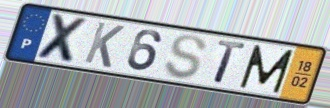6: (126, 29, 163, 73)
K: (81, 20, 127, 70)
M: (237, 43, 296, 95)
S: (162, 33, 209, 81)
T: (212, 38, 248, 87)
X: (34, 12, 92, 67)
